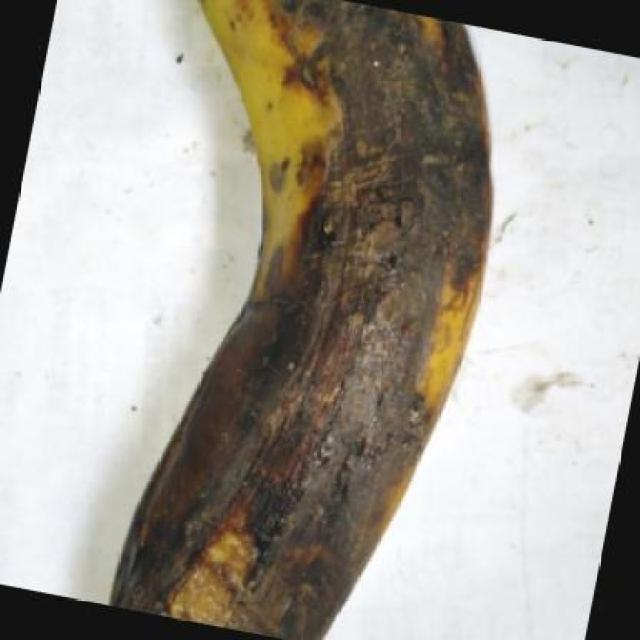rotten: (80, 0, 506, 639)
